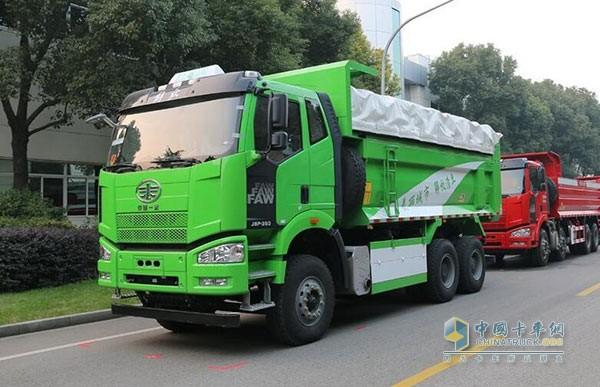truck: (86, 54, 507, 346)
